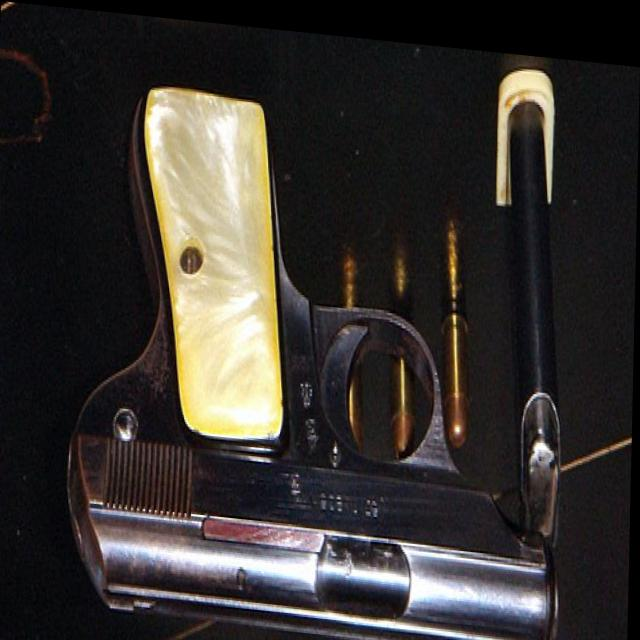handgun: (73, 86, 568, 640)
